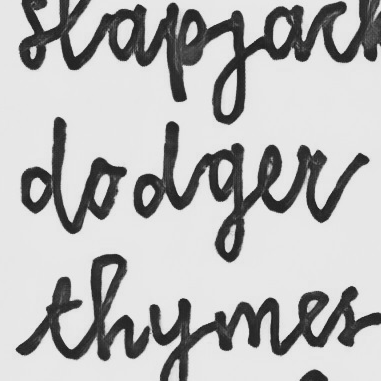d: (17, 114, 70, 215), (130, 118, 181, 220)
e: (254, 143, 290, 216)
g: (205, 139, 248, 264)
o: (80, 156, 120, 219)
r: (293, 143, 339, 224)
